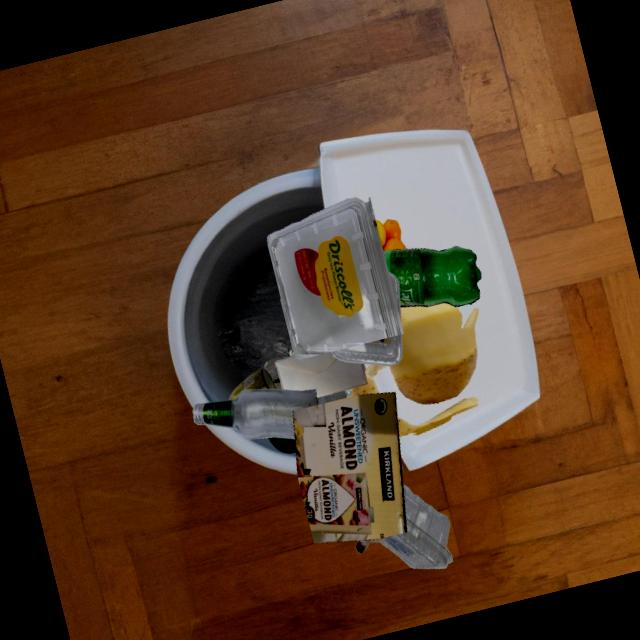biowaste: (388, 303, 478, 386), (376, 219, 406, 251)
cardboard: (293, 392, 406, 543)
glass: (192, 388, 317, 439), (228, 368, 276, 400), (273, 377, 282, 389), (345, 388, 352, 397)
metal: (288, 343, 294, 356)
paper: (275, 352, 367, 397)
plastic: (267, 196, 404, 359), (379, 483, 452, 568), (384, 246, 481, 306), (331, 334, 402, 365), (264, 355, 290, 380), (355, 537, 384, 553), (268, 437, 296, 453), (401, 465, 404, 475)
